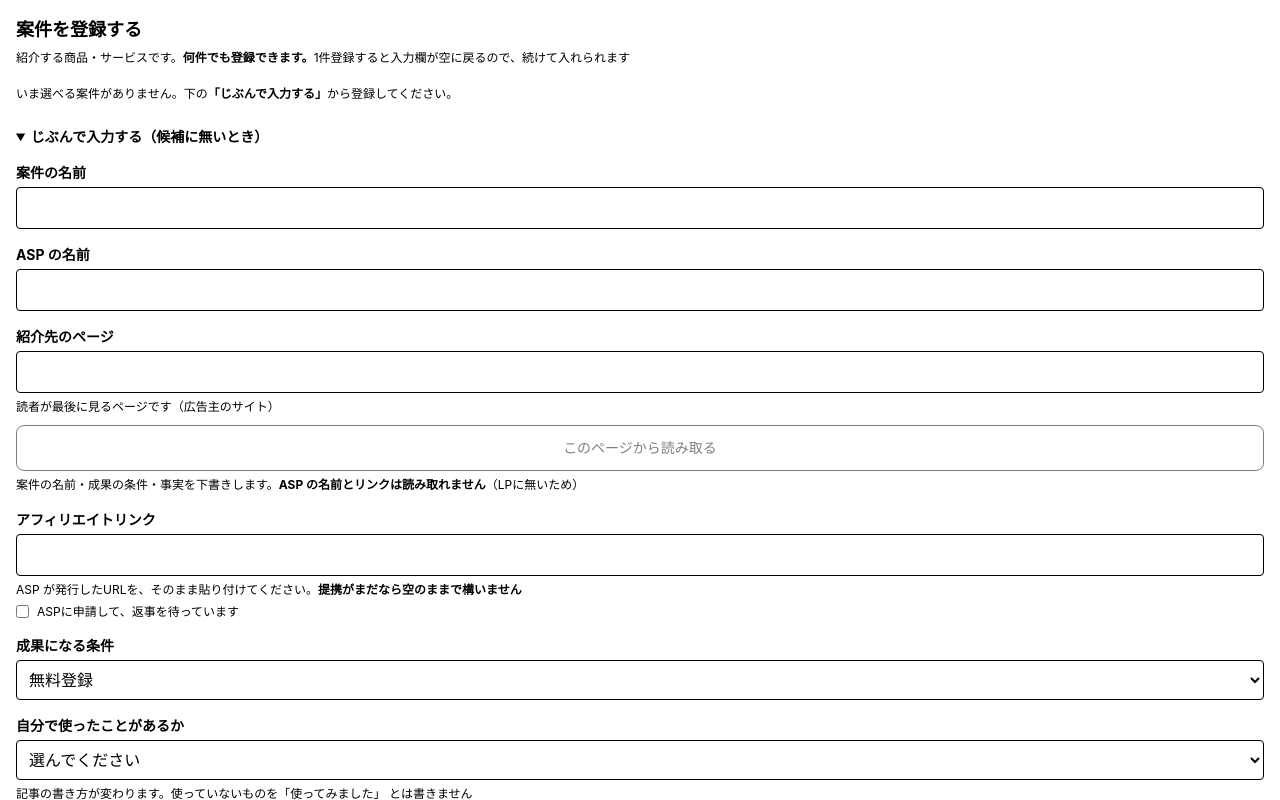
送れないとき › 使ったことがあるかを選ぶまで送れない
Type "案件" into the field labelled "案件の名前" at coordinates (640, 208), box [16,187,1264,229]
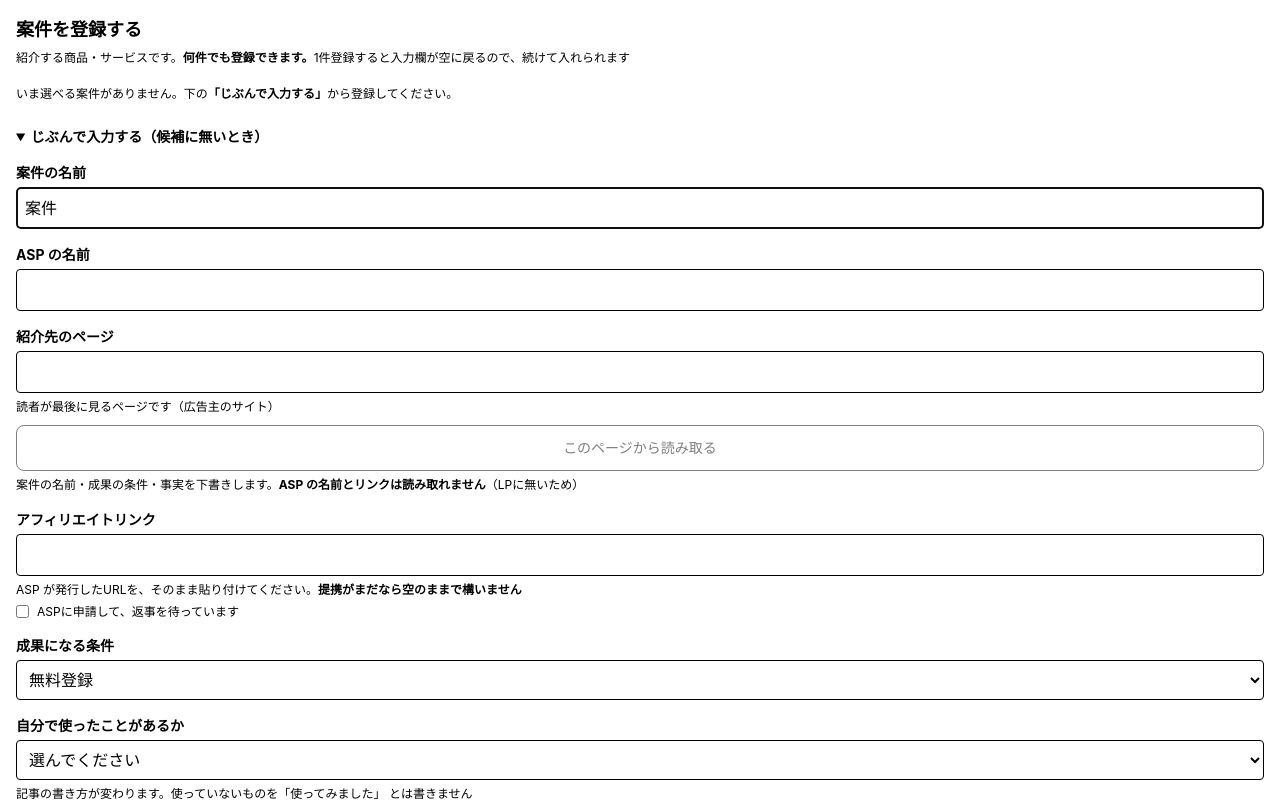
Type "ASP" into the field labelled "ASP の名前" at coordinates (640, 290), box [16,269,1264,311]
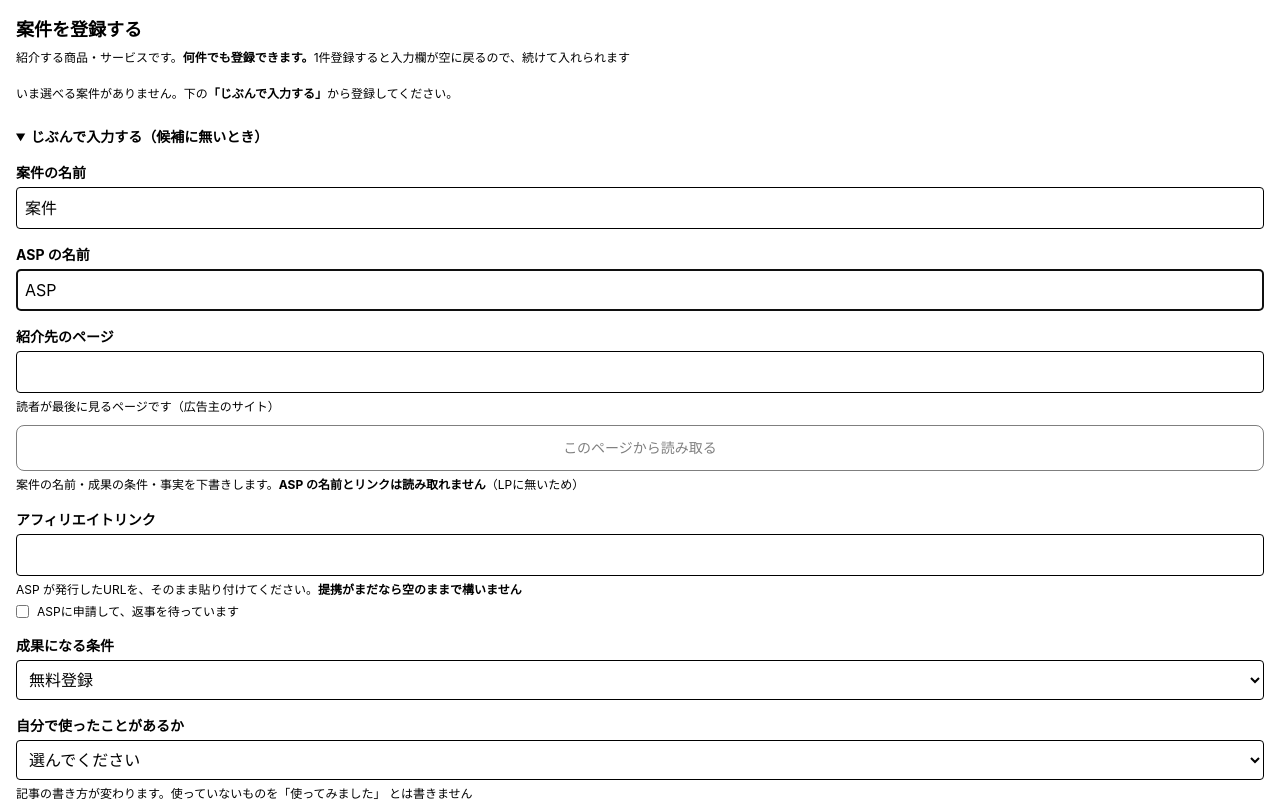
Type "https://lp.example.com" into the field labelled "紹介先のページ" at coordinates (640, 372), box [16,351,1264,393]
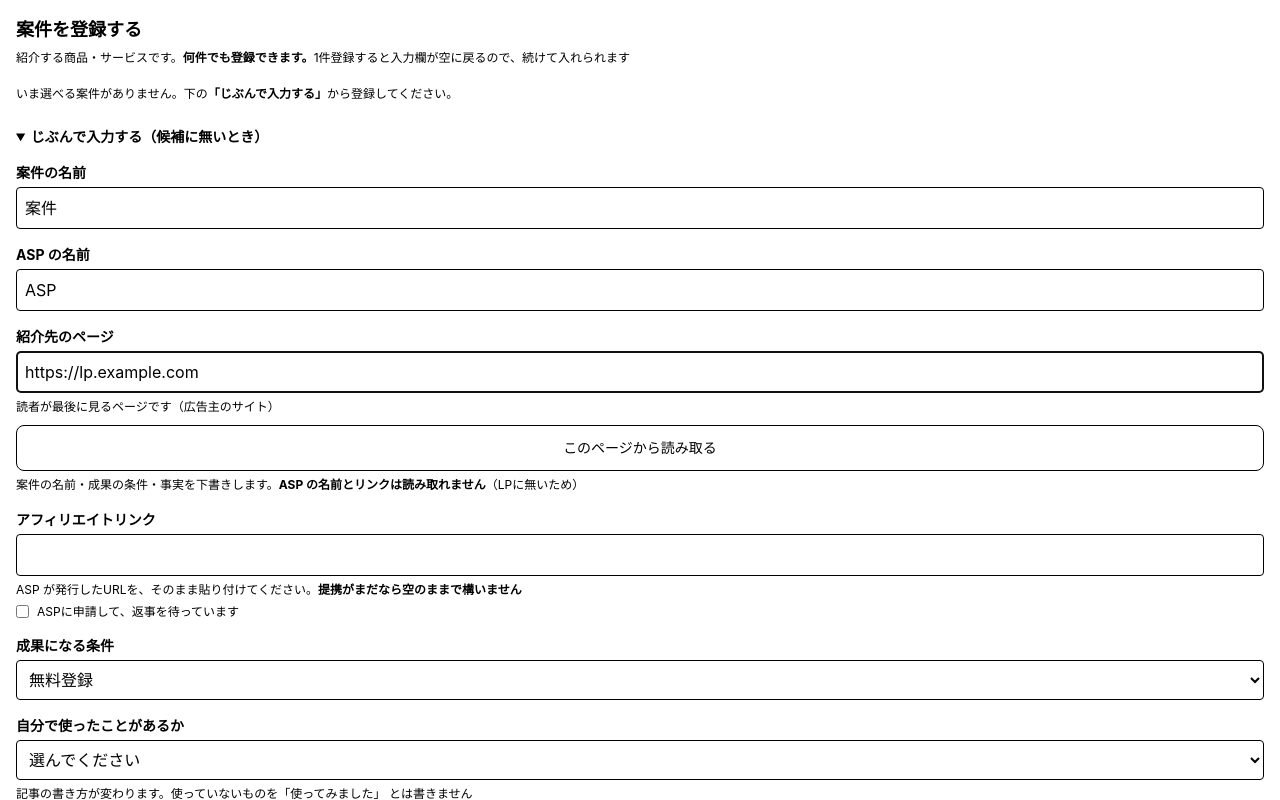
Type "https://asp.example/click" into the field labelled "アフィリエイトリンク" at coordinates (640, 555), box [16,534,1264,576]
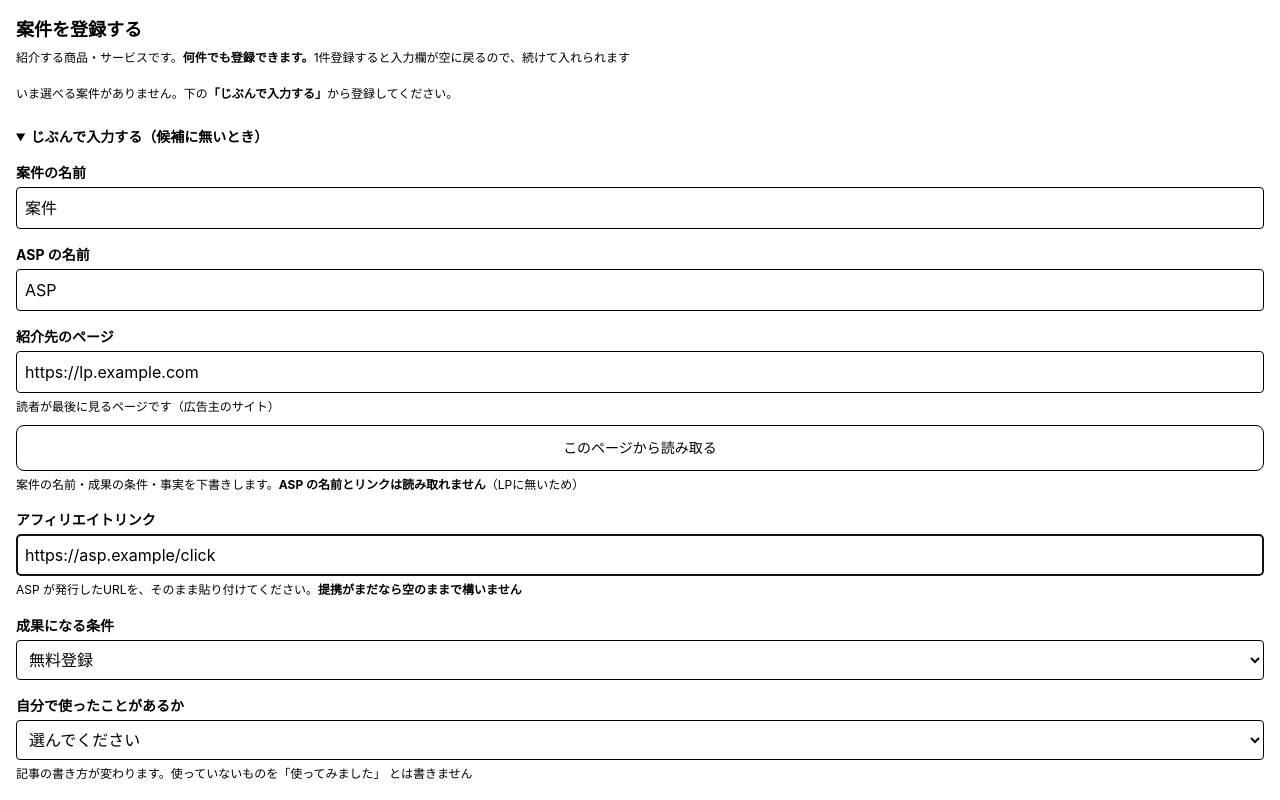
Select "使っていない" in the dropdown labelled "自分で使ったことがあるか" at coordinates (640, 740), box [16,720,1264,760]
(page scrolled)
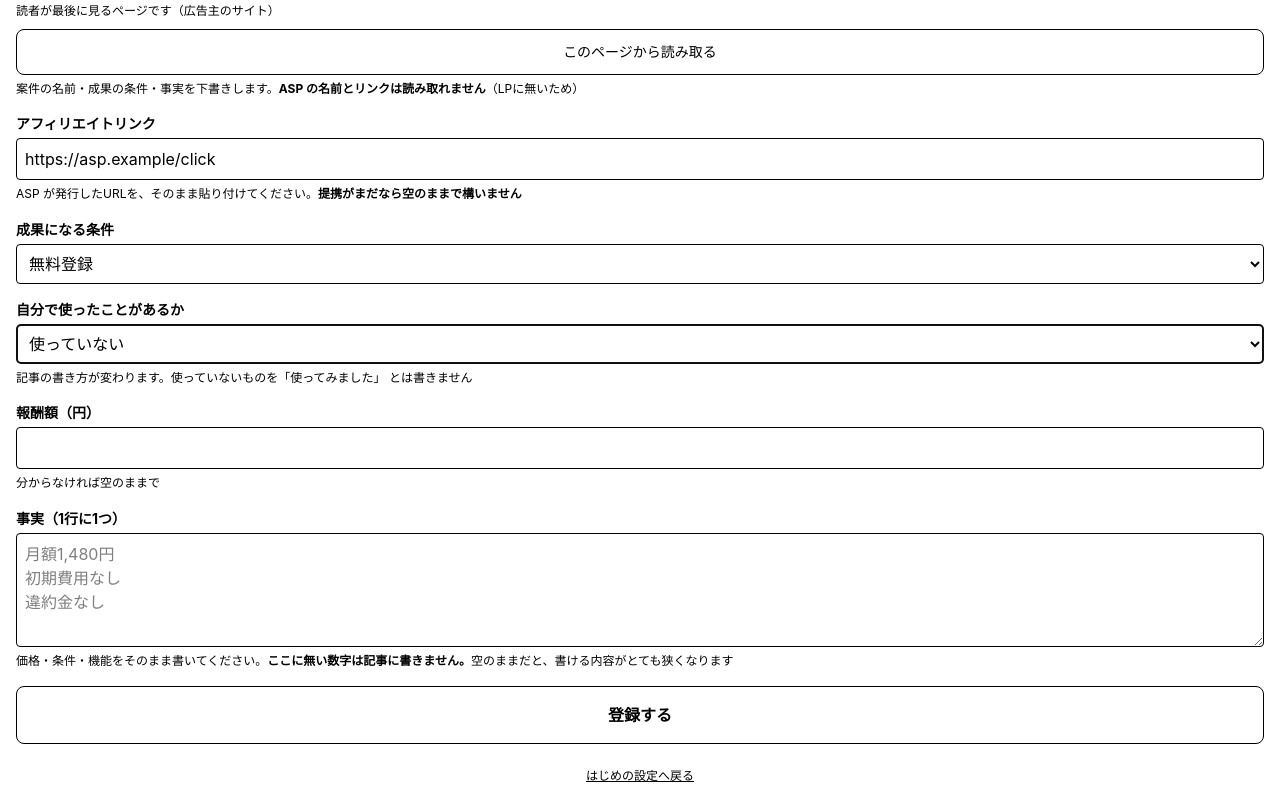
Expected: the button "登録する" is enabled, [16,686,1264,744]
